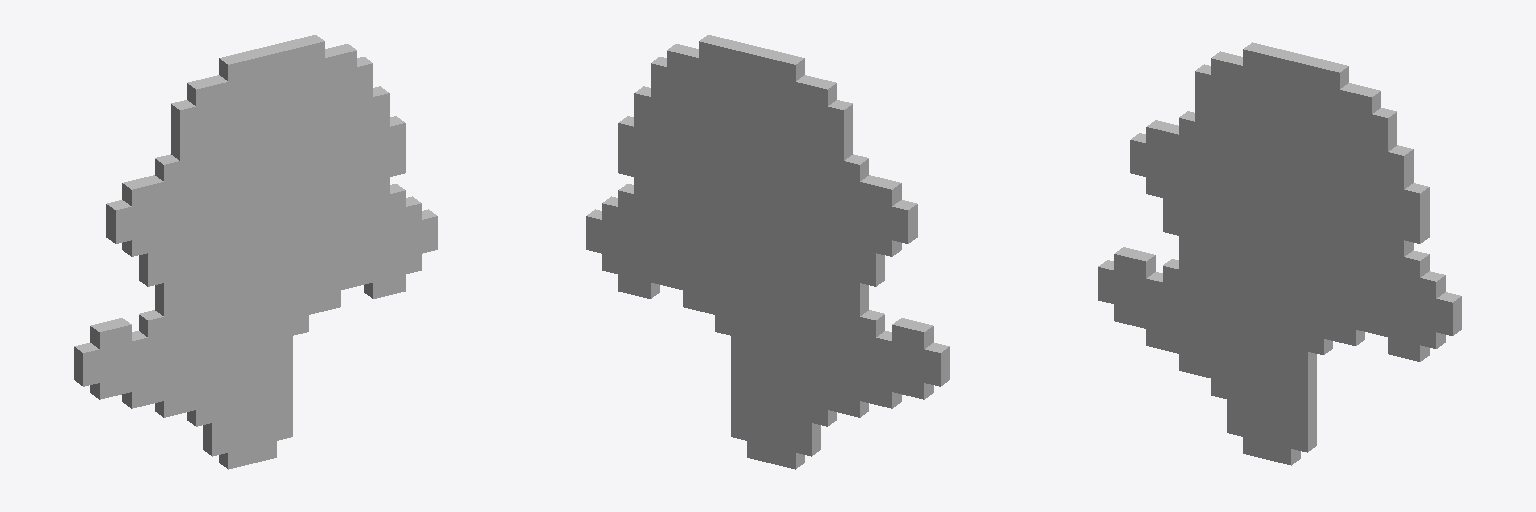
File: swing2.obj
3 views of the same model, side by side, from view 1: azimuth 30°, elevation 25°; view 2: azimuth 150°, elevation 25°; view 3: azimuth 330°, elevation 25° (orthographic).
Visible parts, largest first — view 1: object 1; view 2: object 1; view 3: object 1.
Part boxes in pixels (left/top/right/bottom): object 1: left=74, top=35, right=437, bottom=469; object 1: left=586, top=35, right=949, bottom=469; object 1: left=1098, top=42, right=1461, bottom=465.
Size of the model in its own units: 2.2 by 2.4 by 0.1.